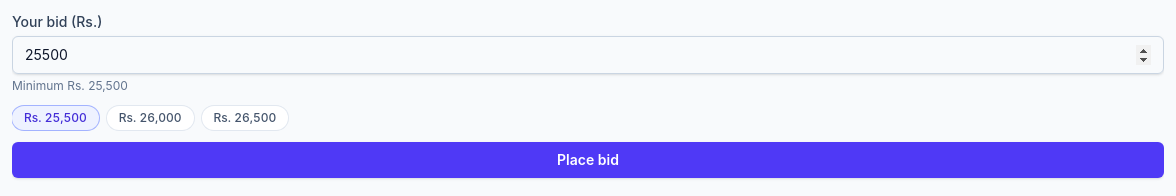
Test: <BidForm> › reads the minimum to screen readers with the input, and the error once there is one
Replace the text in the number field labelled "Your bid (Rs.)" with "100" at (588, 55), box [12, 36, 1164, 74]
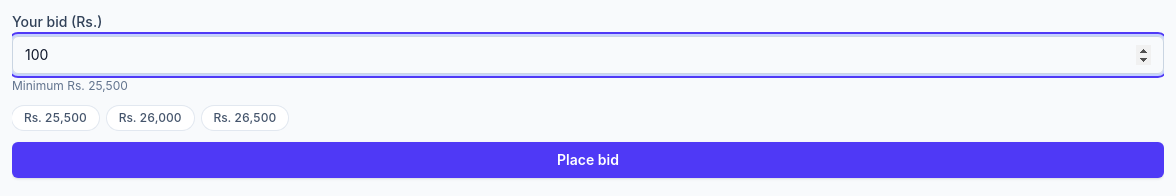
Click the button "Place bid" at (588, 160), box [12, 142, 1164, 178]
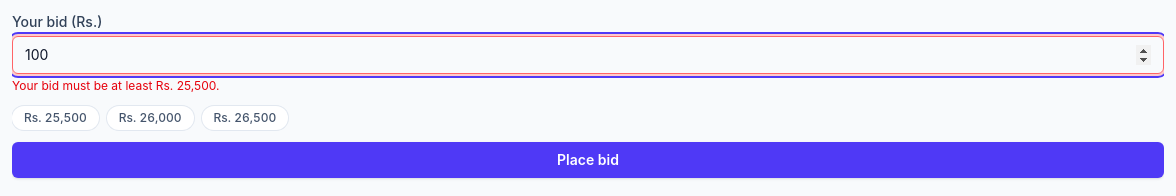
Expected: the text "Your bid must be at least Rs. 25,500." is shown, [12, 78, 220, 93]
